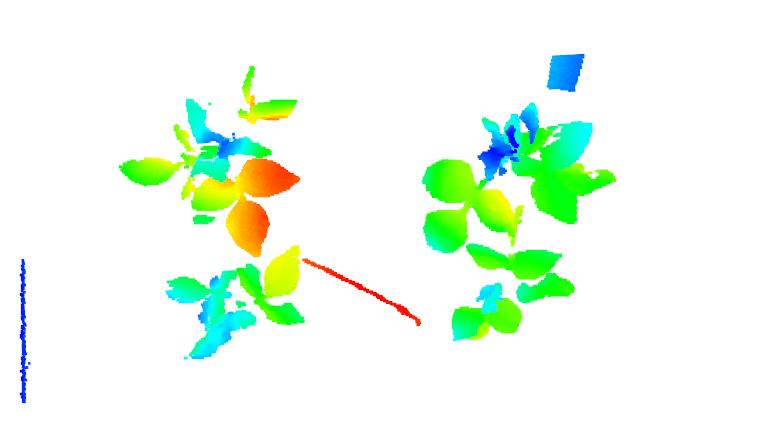mungbean: (419, 100, 618, 255), (121, 96, 296, 255), (155, 245, 309, 363), (444, 247, 588, 345)
